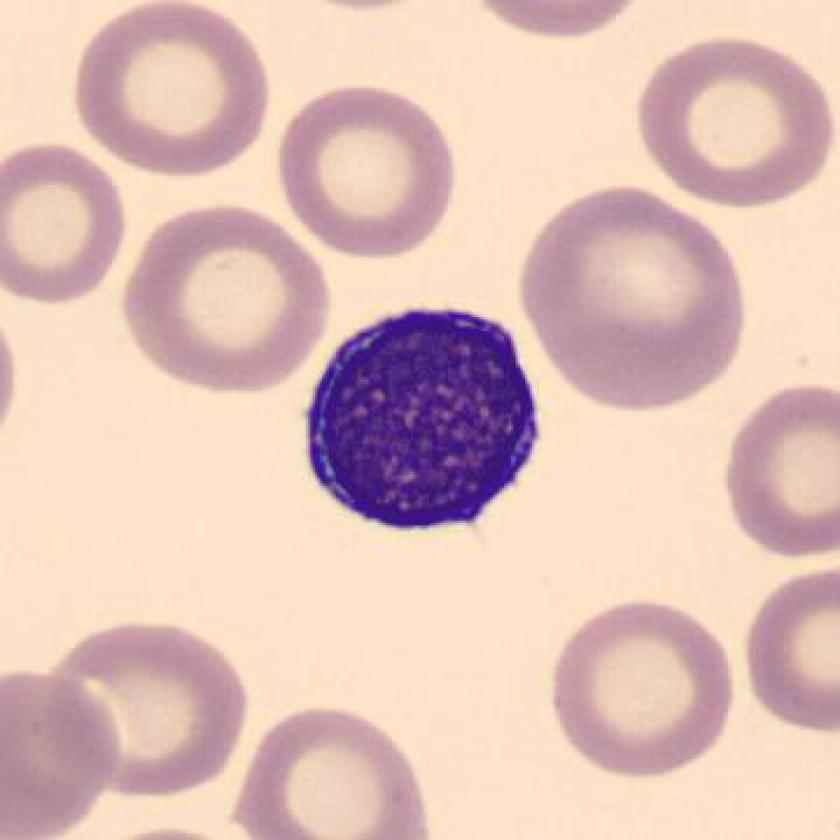lymphocyte: (286, 302, 556, 552)
